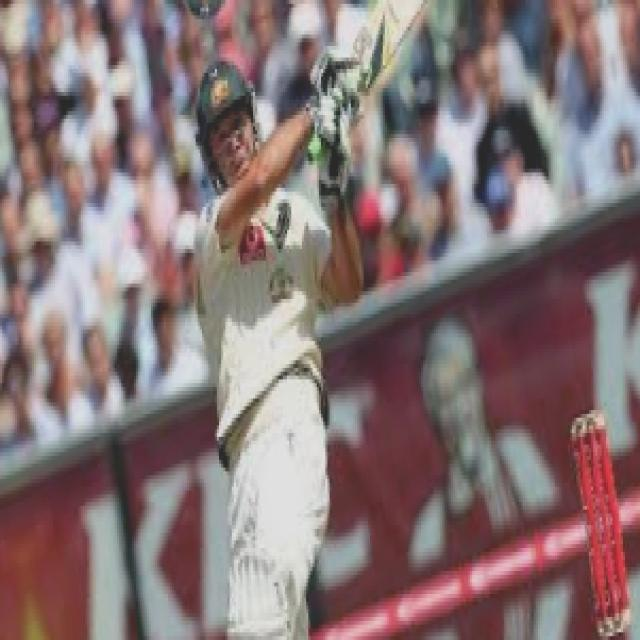toe: (392, 0, 429, 9)
